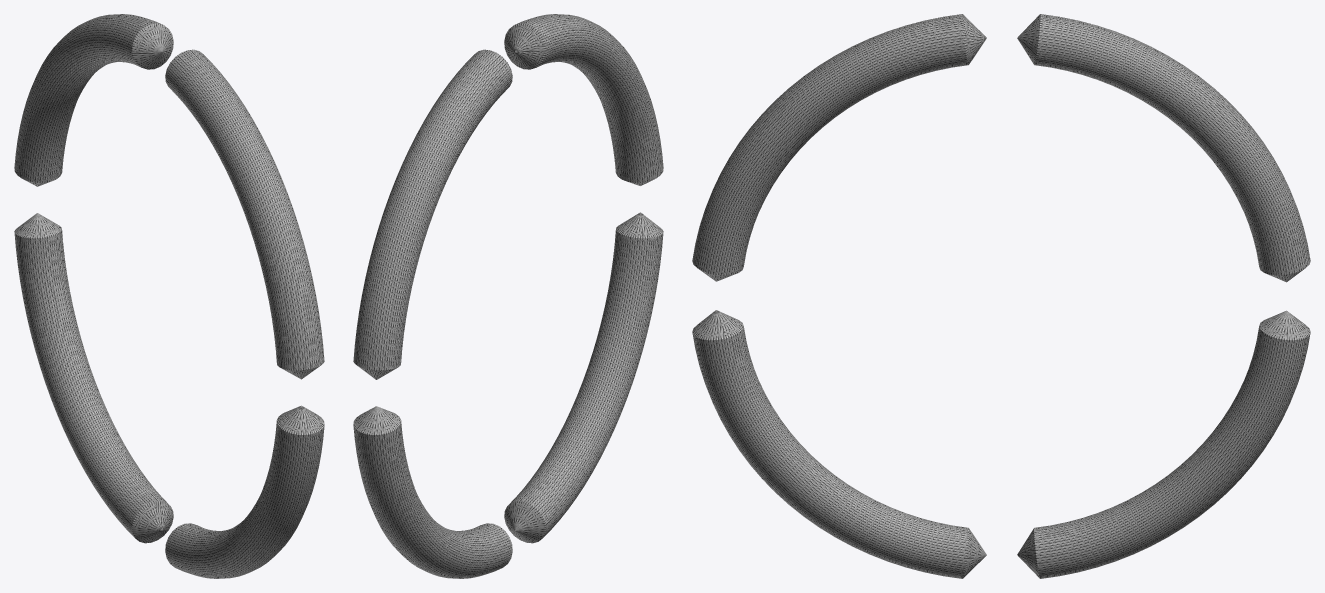
The model's file is Ring17.gltf.
3 views of the same model, side by side, from view 1: azimuth 30°, elevation 25°; view 2: azimuth 150°, elevation 25°; view 3: azimuth 270°, elevation 25° (orthographic). The views are drawn at different scales.
Parts seen in each view (by area): view 1: Object 6; view 2: Object 6; view 3: Object 6.
Boxes of the visible parts, box(x1,y1,x2,y2) form: Object 6: box(14, 14, 324, 578); Object 6: box(353, 14, 663, 578); Object 6: box(692, 14, 1310, 578).
Size of the model in its own units: 0.004 by 0.0476 by 0.0476.
1 material, 1 textured.
